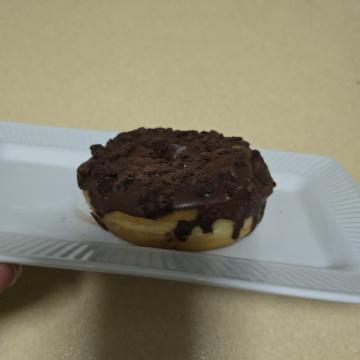doughnut: (109, 75, 260, 299)
